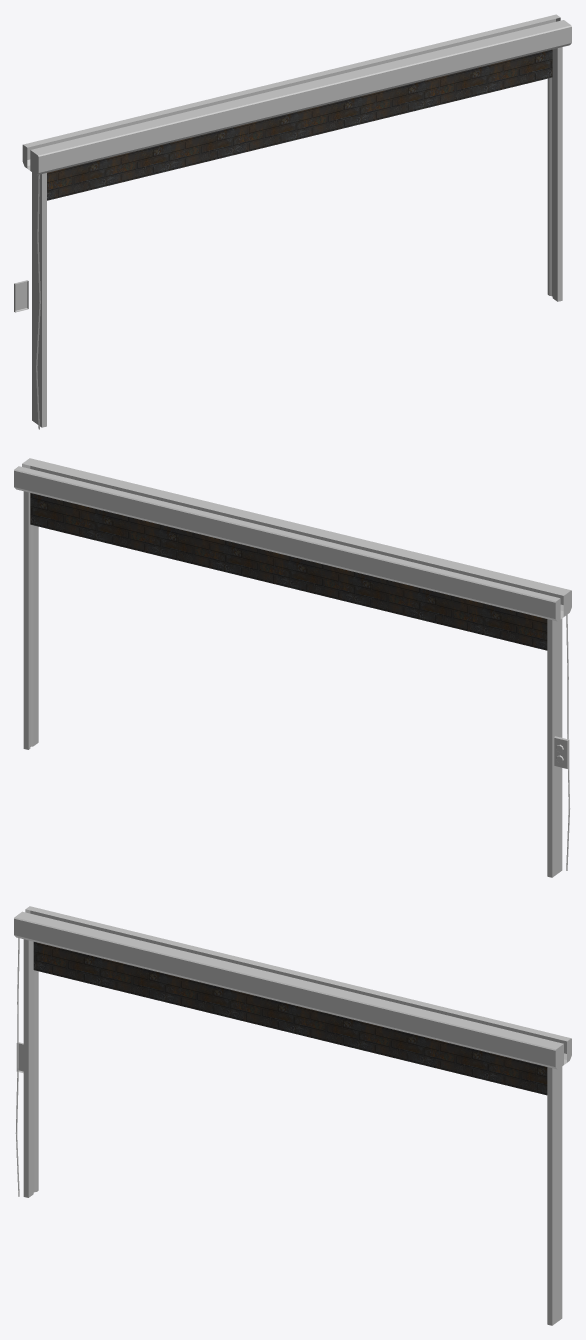
Rendered from SM_Lattice_Gate_03.fbx.
3 renders of one model, top to bottom at view 1: azimuth 30°, elevation 25°; view 2: azimuth 150°, elevation 25°; view 3: azimuth 330°, elevation 25°, orthographic.
Visible parts, largest first — view 1: SM_Lattice_Gate_03; view 2: SM_Lattice_Gate_03; view 3: SM_Lattice_Gate_03.
Boxes of the visible parts, x1,y1,x2,y2 form: SM_Lattice_Gate_03: (14, 14, 571, 429); SM_Lattice_Gate_03: (14, 458, 571, 877); SM_Lattice_Gate_03: (14, 906, 571, 1325).
Size of the model in its own units: 627 by 303 by 32.12.
